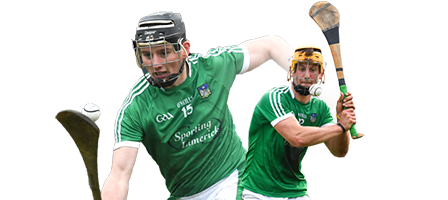hurley: (304, 1, 365, 140), (54, 105, 103, 198)
